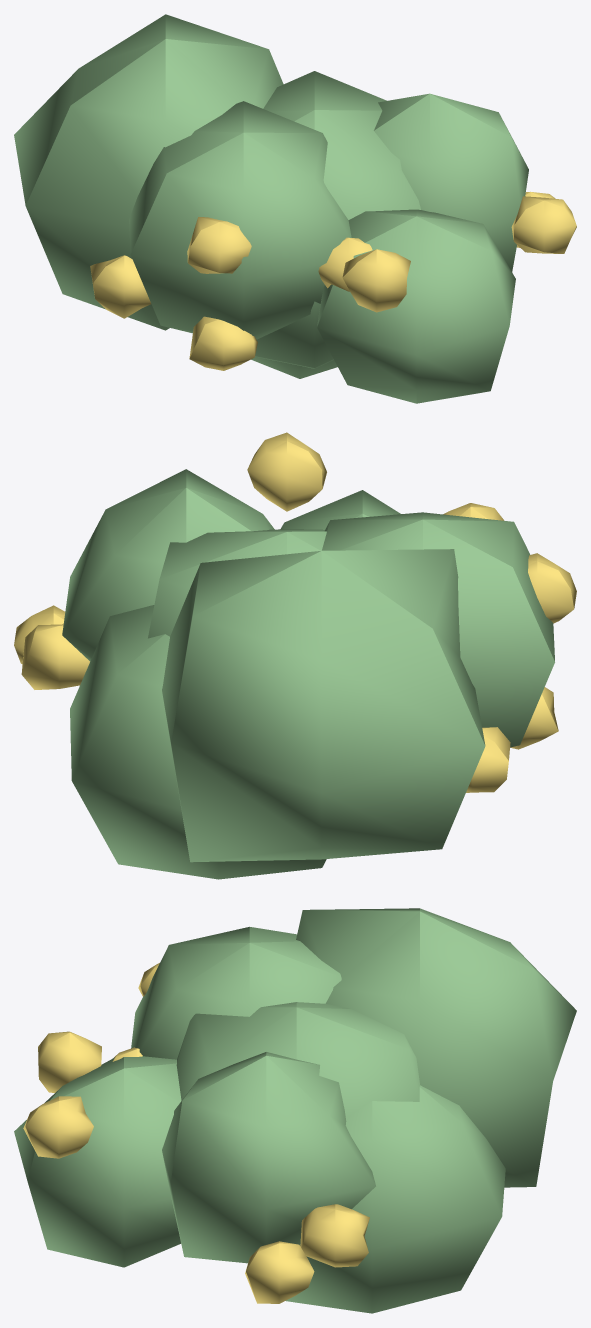
File: bush_flowering.glb
3 views of the same model, one above another, from view 1: azimuth 30°, elevation 25°; view 2: azimuth 150°, elevation 25°; view 3: azimuth 270°, elevation 25° (orthographic). The views are drawn at different scales.
Parts seen in each view (by area): view 1: bush-flowering; view 2: bush-flowering; view 3: bush-flowering.
Boxes of the visible parts, left/top/right/bottom form: bush-flowering: left=14, top=14, right=576, bottom=403; bush-flowering: left=14, top=432, right=576, bottom=879; bush-flowering: left=14, top=908, right=576, bottom=1313.
Size of the model in its own units: 1.33 by 0.8556 by 1.34.
